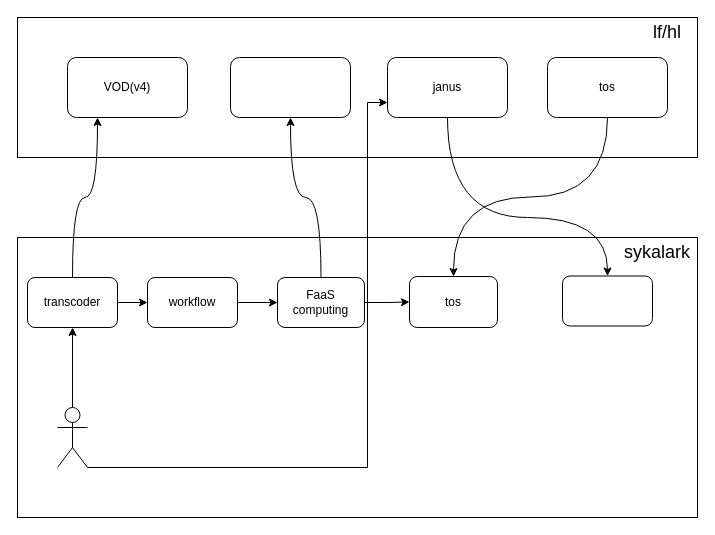
This 715x535 diagram has some shape labels left out. The shapes that lost their labels are listed below. From the top down, each one's centre as x and y in pixels, then its label:
the point at 290,87: kms
the point at 607,300: crius
the point at 72,437: User
